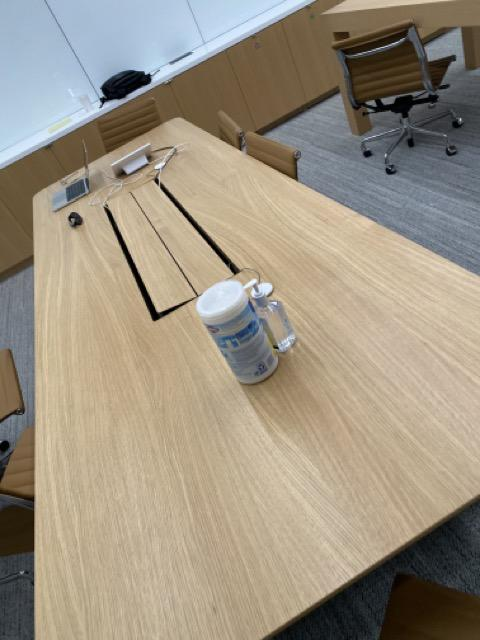Sunglasses: (68, 209, 85, 231)
